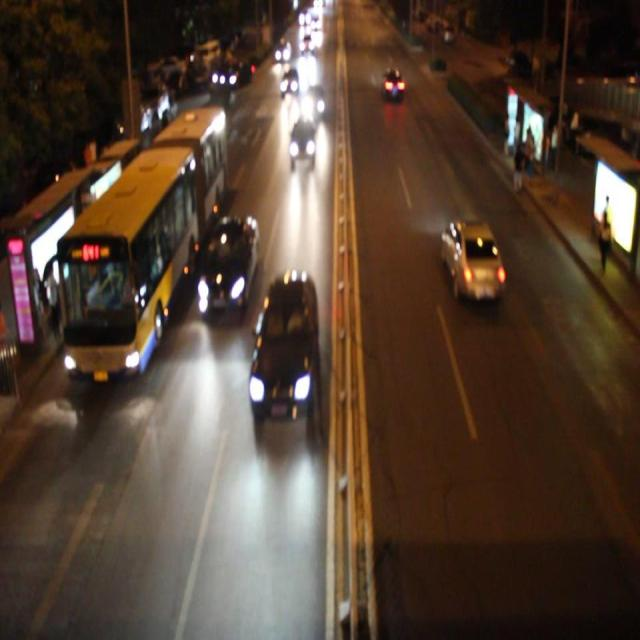car: (247, 269, 321, 420), (195, 211, 258, 324), (440, 218, 504, 302), (288, 118, 316, 162), (380, 66, 406, 102), (302, 82, 325, 120), (279, 65, 300, 97)
van: (54, 102, 219, 376)
